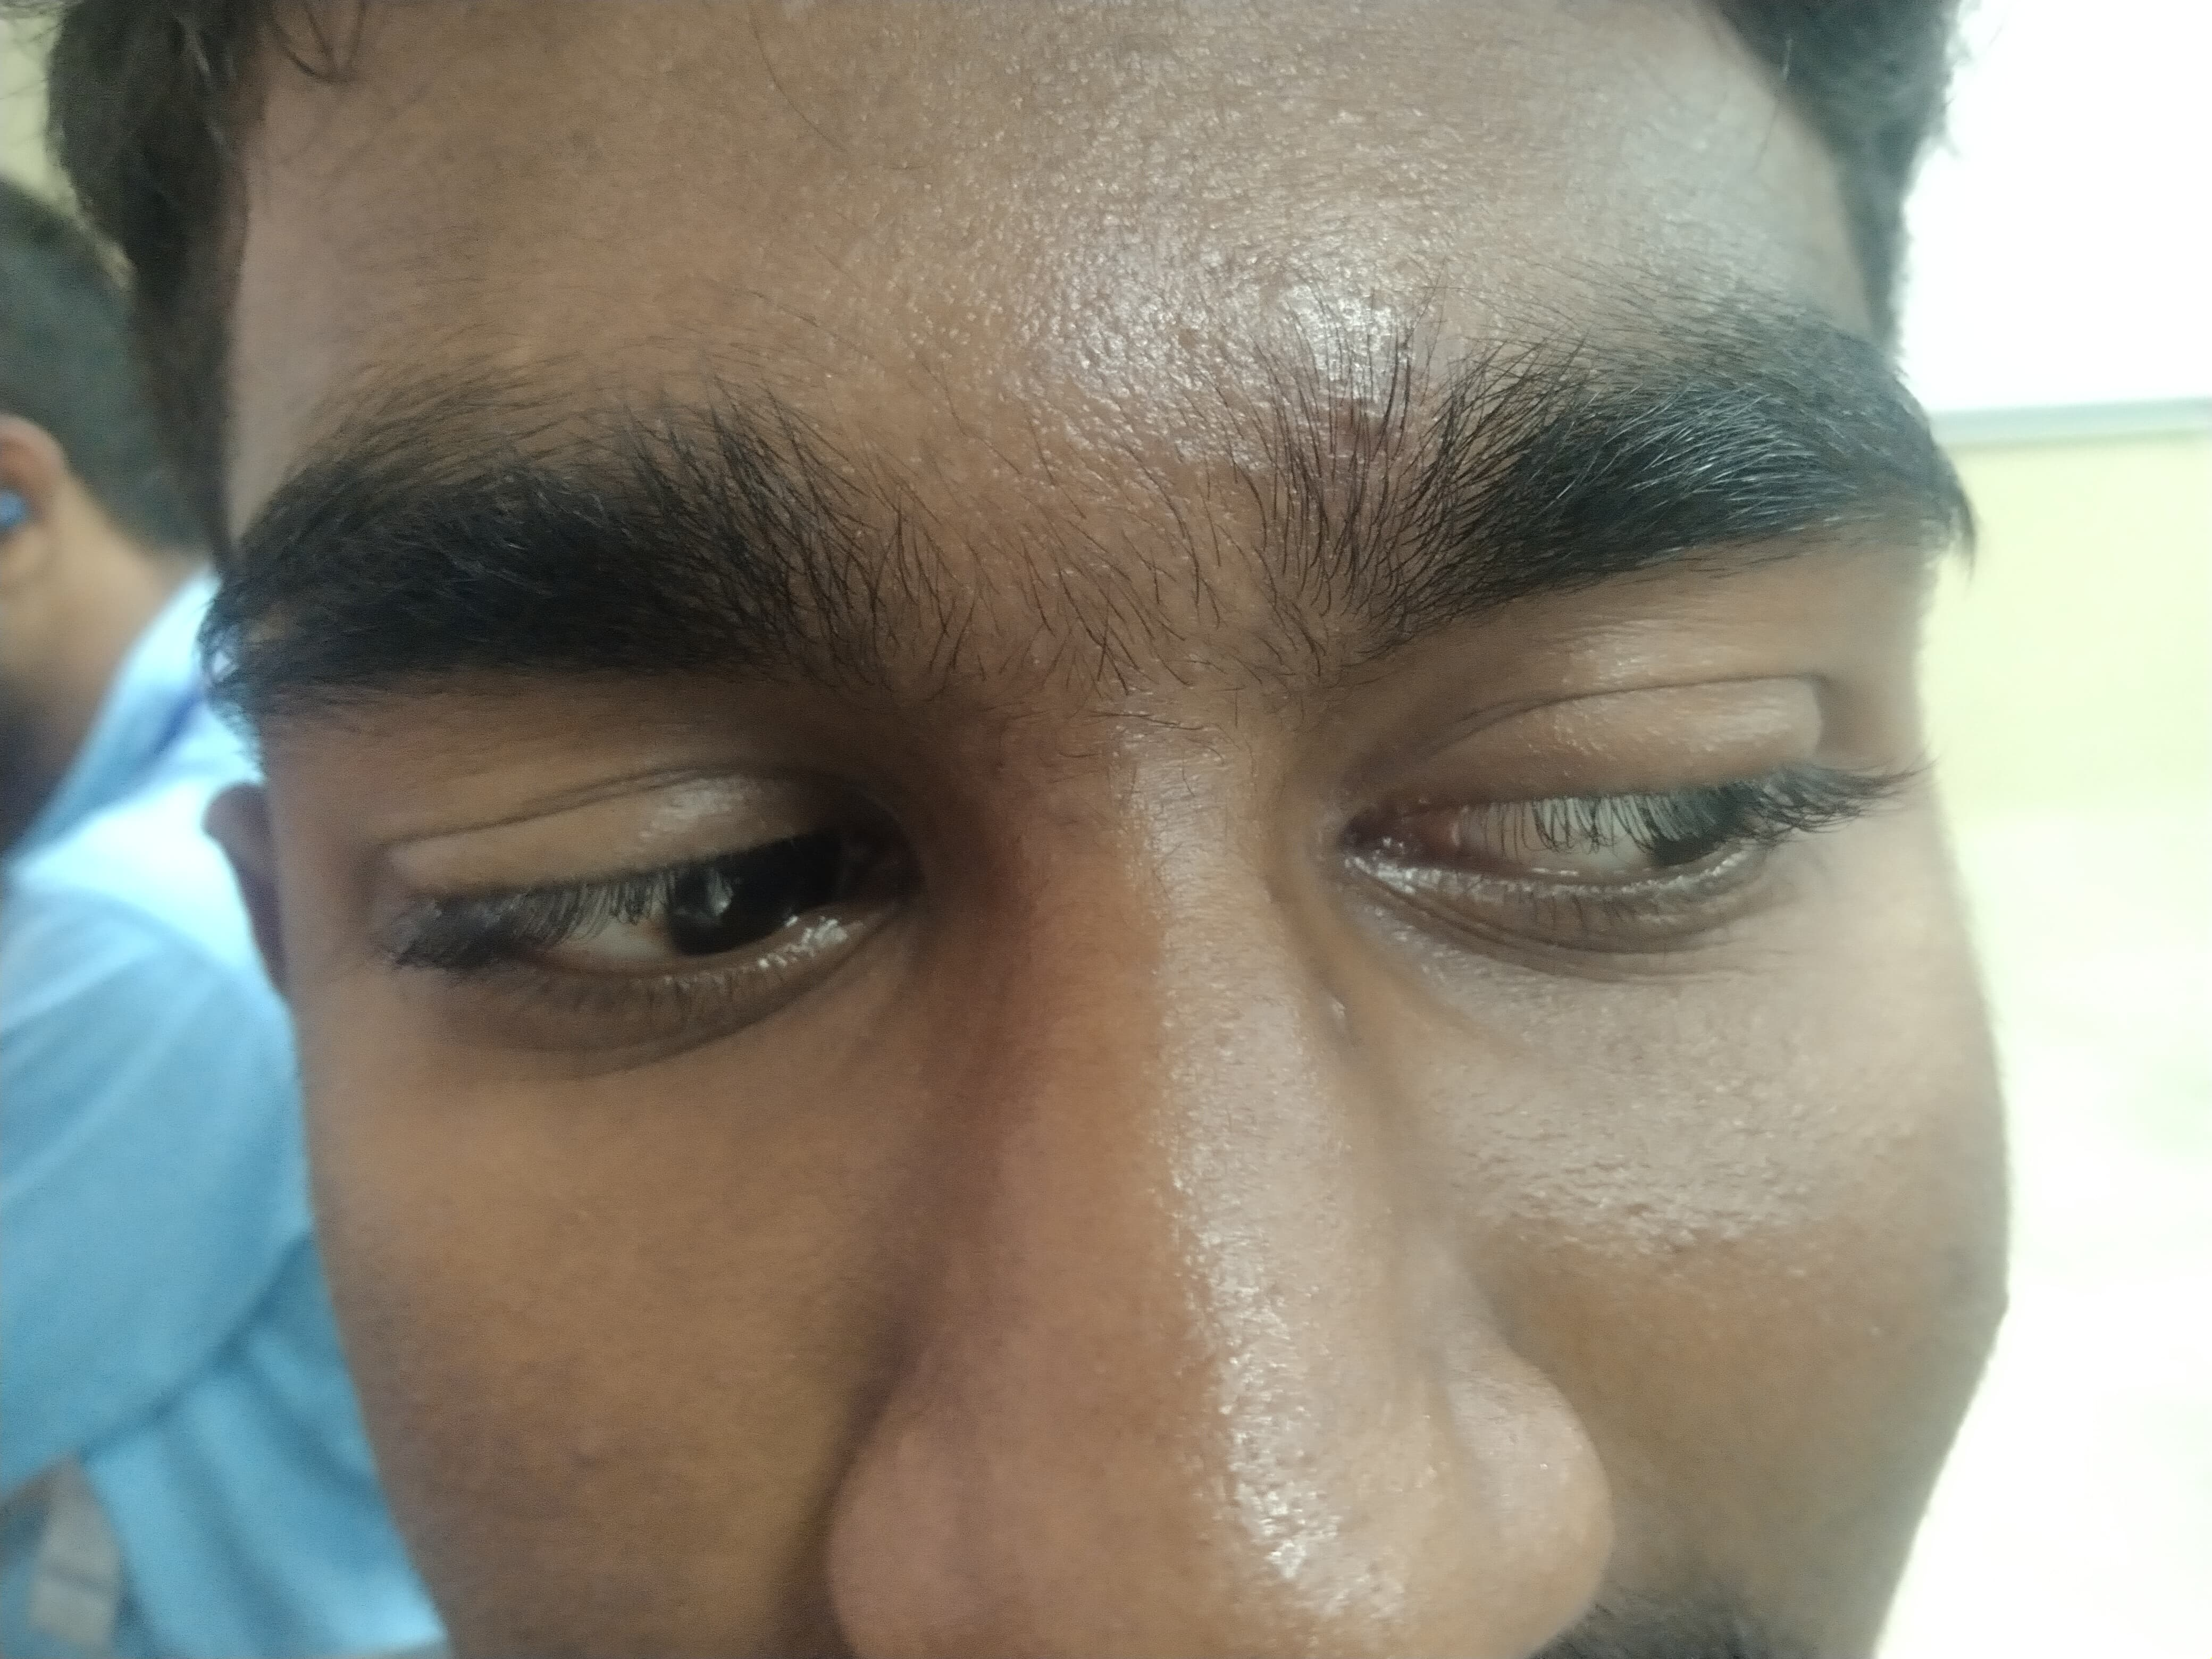EYE LEFT: (167, 498, 1001, 1185), (1249, 505, 2069, 1178)
